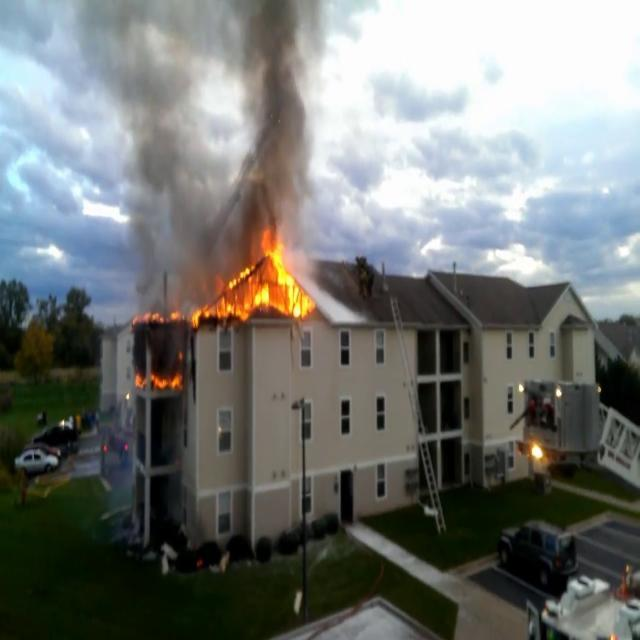Fire: (212, 232, 314, 324), (144, 364, 183, 394)
Smoke: (94, 1, 328, 256)
